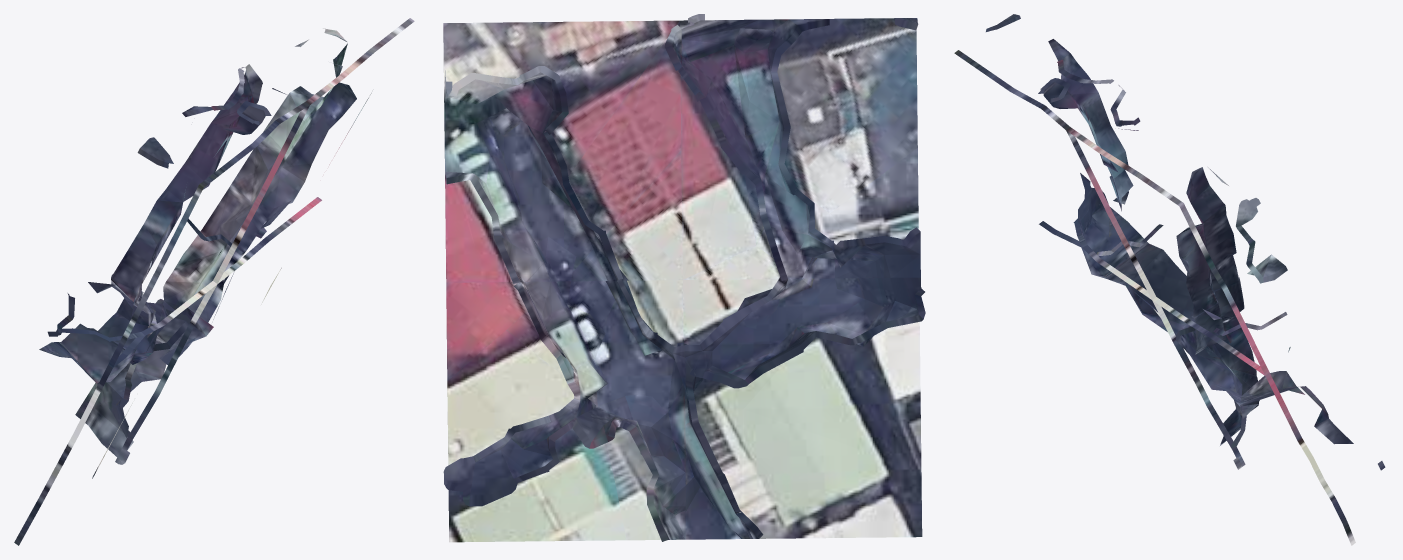
3 views of the same model, side by side, from view 1: azimuth 30°, elevation 25°; view 2: azimuth 150°, elevation 25°; view 3: azimuth 270°, elevation 25° (orthographic). The views are drawn at different scales.
Size of the model in its own units: 38.26 by 37.54 by 35.22.
Materials: 2 (2 with a texture image).
